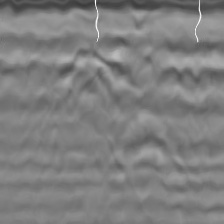Utility: (54, 43, 127, 96), (122, 129, 171, 171)
